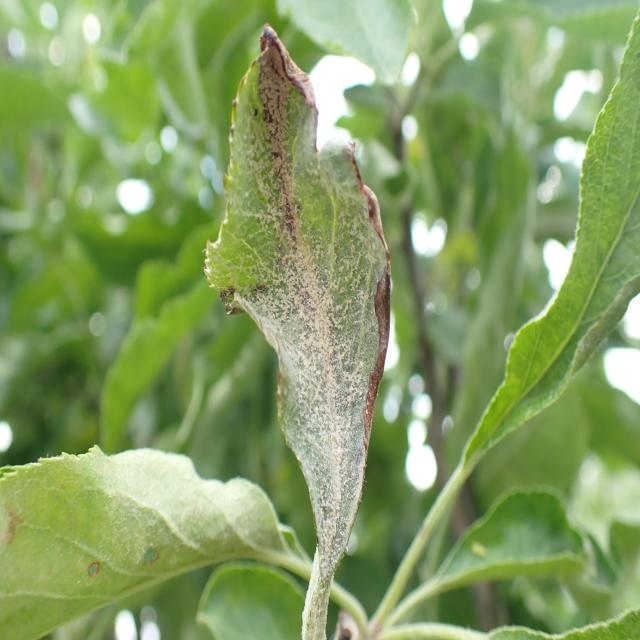Powdery_mildew: (193, 44, 407, 640), (447, 0, 640, 533), (14, 405, 280, 640)
